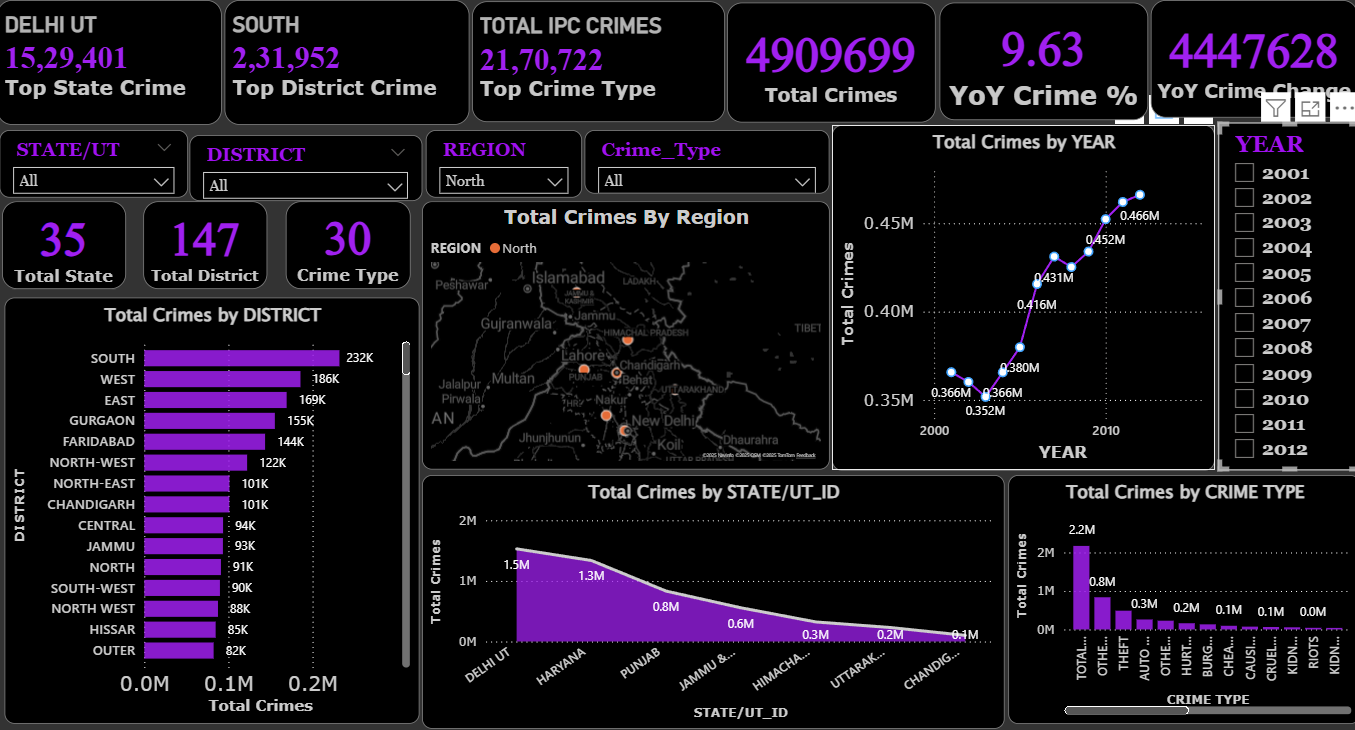

This screenshot's page, from the dashboard's own definition file:
{"tool":"powerbi","page":{"name":"Page 1","canvas":[1366,730],"ordinal":0},"visuals":[{"type":"actionButton","box":[0,0,100,40],"z":0},{"type":"lineChart","fields":{"Category":["Dim_Year.YEAR"],"Y":["Fact_Crimes.CrimeCount"]},"box":[828.6,124.3,380,342.9],"z":1000},{"type":"columnChart","fields":{"Category":["Fact_Crimes.Crime_Type"],"Y":["Fact_Crimes.Total Crimes"]},"box":[1003.9,471.5,349.9,246.9],"z":2000},{"type":"azureMap","title":"Total Crimes By Region","fields":{"Category":["Dim_District.STATE/UT"],"Series":["Dim_Region.REGION"]},"box":[421.9,199.8,404.5,266.8],"z":3000},{"type":"card","fields":{"Values":["Fact_Crimes.Total Crimes"]},"box":[725,2.5,207.2,119.1],"z":4000},{"type":"card","fields":{"Values":["ALL MEASURES.YoY Crime Change"]},"box":[1145.4,0,206,116.6],"z":5000},{"type":"card","fields":{"Values":["ALL MEASURES.YoY Crime %"]},"box":[935.7,2.5,207.2,116.6],"z":6000},{"type":"multiRowCard","fields":{"Values":["ALL MEASURES.Top State Crime","ALL MEASURES.Top State Name"]},"box":[0,0,223.6,124.2],"z":7000},{"type":"slicer","fields":{"Values":["Dim_State.STATE/UT_ID"]},"box":[2.5,129.1,187.4,67],"z":8000},{"type":"slicer","fields":{"Values":["Dim_Year.YEAR"]},"box":[1212.4,121.6,141.5,345],"z":9000},{"type":"slicer","fields":{"Values":["Fact_Crimes.Crime_Type"]},"box":[583.2,129.1,243.2,63.3],"z":10000},{"type":"clusteredBarChart","fields":{"Y":["Fact_Crimes.Total Crimes"],"Category":["Dim_District.DISTRICT"]},"box":[7.4,295.3,412,423.2],"z":11000},{"type":"slicer","fields":{"Values":["Dim_Region.REGION"]},"box":[425.6,129.1,155.1,67],"z":12000},{"type":"card","fields":{"Values":["ALL MEASURES.District Count"]},"box":[145.2,199.8,122.9,86.9],"z":13000},{"type":"card","fields":{"Values":["ALL MEASURES.Distinct Crime Types"]},"box":[286.7,199.8,124.1,86.9],"z":14000},{"type":"card","fields":{"Values":["ALL MEASURES.State Count"]},"box":[5,199.8,122.9,86.9],"z":15000},{"type":"multiRowCard","fields":{"Values":["ALL MEASURES.Top Crime Type Name","ALL MEASURES.Top Crime Type Count"]},"box":[472,1.3,251,120.3],"z":16000},{"type":"multiRowCard","fields":{"Values":["ALL MEASURES.Top District Name","ALL MEASURES.Top District Crime"]},"box":[226.2,0,243.2,124.2],"z":17000},{"type":"slicer","fields":{"Values":["Dim_District.DISTRICT"]},"box":[191.1,134,230.8,65.8],"z":18000},{"type":"areaChart","fields":{"Category":["Dim_State.STATE/UT_ID"],"Y":["Fact_Crimes.Total Crimes"]},"box":[421.9,471.5,578.3,251.9],"z":19000}]}

Visuals, with their boxes in screenshot pixels (x1, y1, x2, y2):
actionButton: 0,0,91,34
lineChart - Dim_Year.YEAR x Fact_Crimes.CrimeCount: 830,119,1215,467
columnChart - Fact_Crimes.Crime_Type x Fact_Crimes.Total Crimes: 1008,471,1354,722
"Total Crimes By Region" azureMap: 417,196,828,466
card - Fact_Crimes.Total Crimes: 725,0,935,116
card - ALL MEASURES.YoY Crime Change: 1151,0,1354,111
card - ALL MEASURES.YoY Crime %: 938,0,1149,114
multiRowCard - ALL MEASURES.Top State Crime x ALL MEASURES.Top State Name: 0,0,216,119
slicer - Dim_State.STATE/UT_ID: 0,124,182,192
slicer - Dim_Year.YEAR: 1219,116,1354,466
slicer - Fact_Crimes.Crime_Type: 581,124,828,188
clusteredBarChart - Fact_Crimes.Total Crimes x Dim_District.DISTRICT: 0,292,415,722
slicer - Dim_Region.REGION: 421,124,578,192
card - ALL MEASURES.District Count: 137,196,261,284
card - ALL MEASURES.Distinct Crime Types: 280,196,406,284
card - ALL MEASURES.State Count: 0,196,119,284
multiRowCard - ALL MEASURES.Top Crime Type Name x ALL MEASURES.Top Crime Type Count: 468,0,723,116
multiRowCard - ALL MEASURES.Top District Name x ALL MEASURES.Top District Crime: 219,0,465,119
slicer - Dim_District.DISTRICT: 183,129,417,196
areaChart - Dim_State.STATE/UT_ID x Fact_Crimes.Total Crimes: 417,471,1004,727
